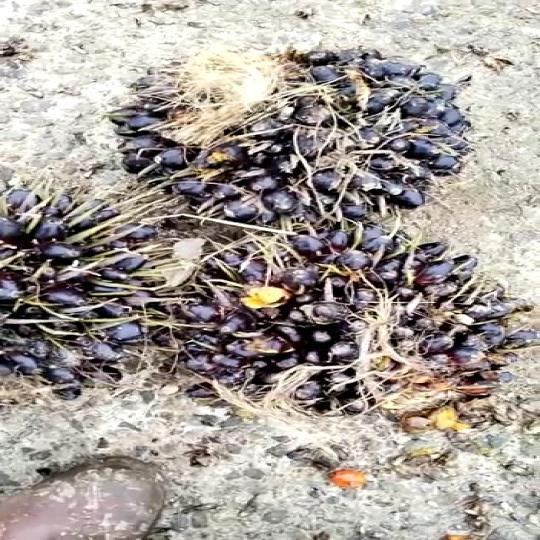mentah: (152, 242, 540, 446), (101, 49, 506, 240), (0, 150, 214, 414)
